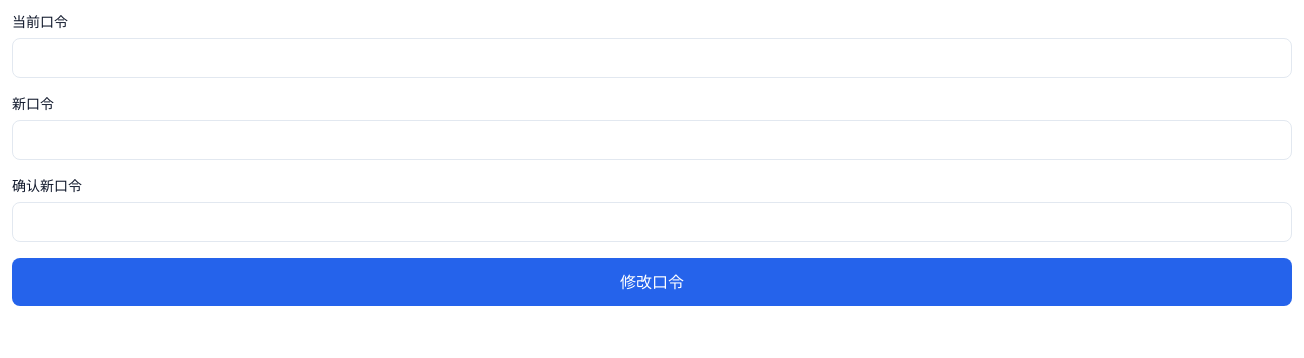
Scenario: PasswordChangeForm submit › shows the mapped copy for 401 INVALID_CREDENTIALS
In the password field labelled "当前口令": (652, 58) [12,38,1292,78], type "Local-Account-1"
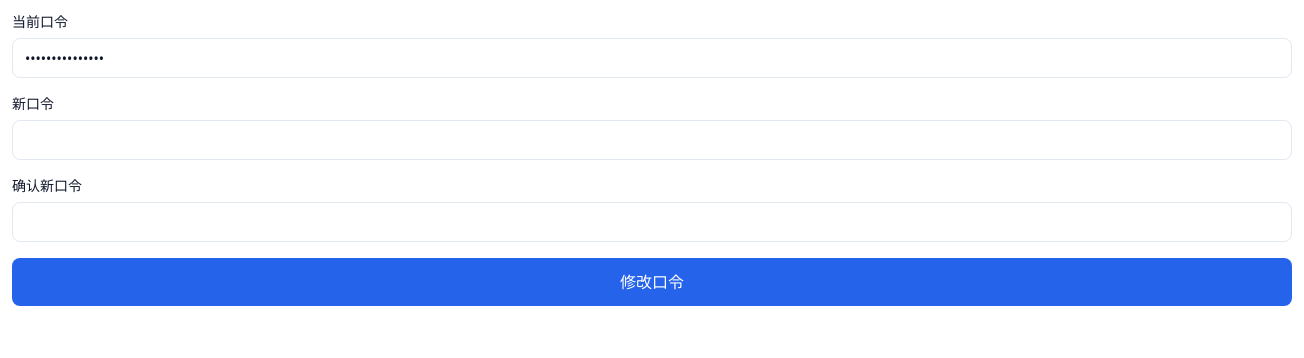
In the password field labelled "新口令": (652, 140) [12,120,1292,160], type "Rotated-Account-2"
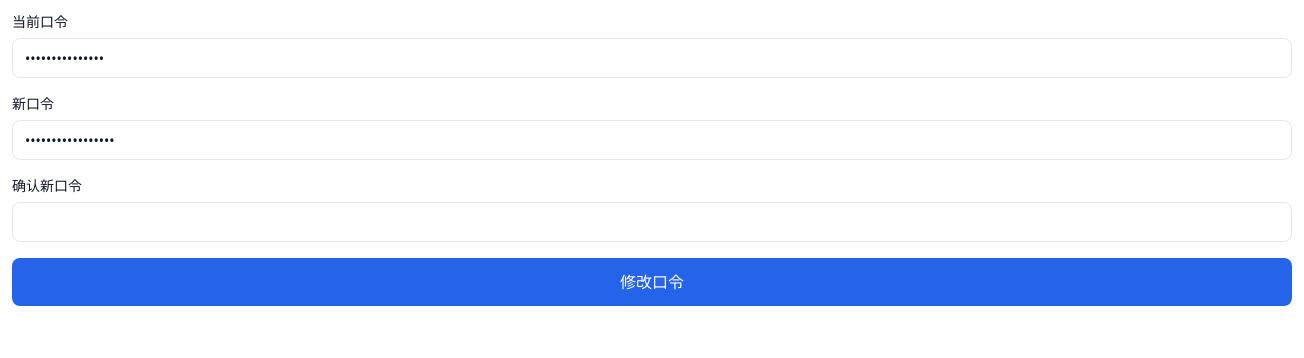
In the password field labelled "确认新口令": (652, 222) [12,202,1292,242], type "Rotated-Account-2"
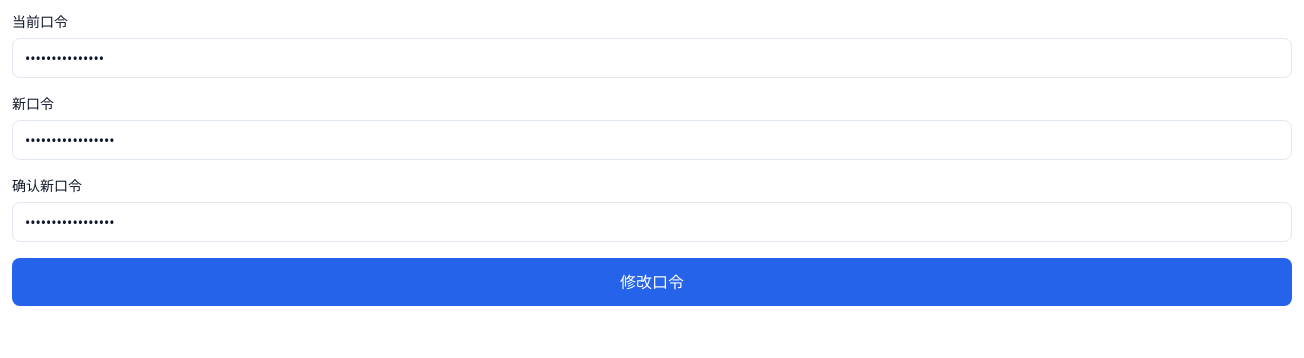
Click the button "修改口令": (652, 282) [12,258,1292,306]
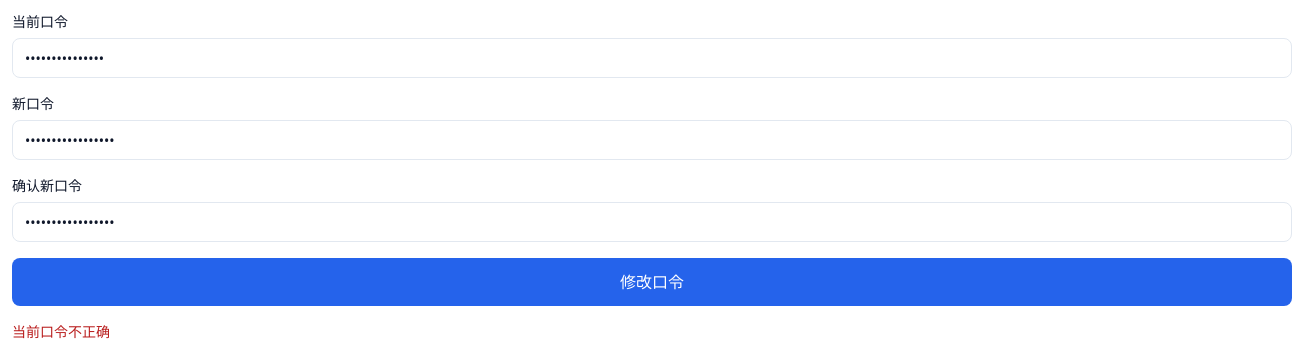
Expected: the message reads "当前口令不正确", [12,322,110,341]
